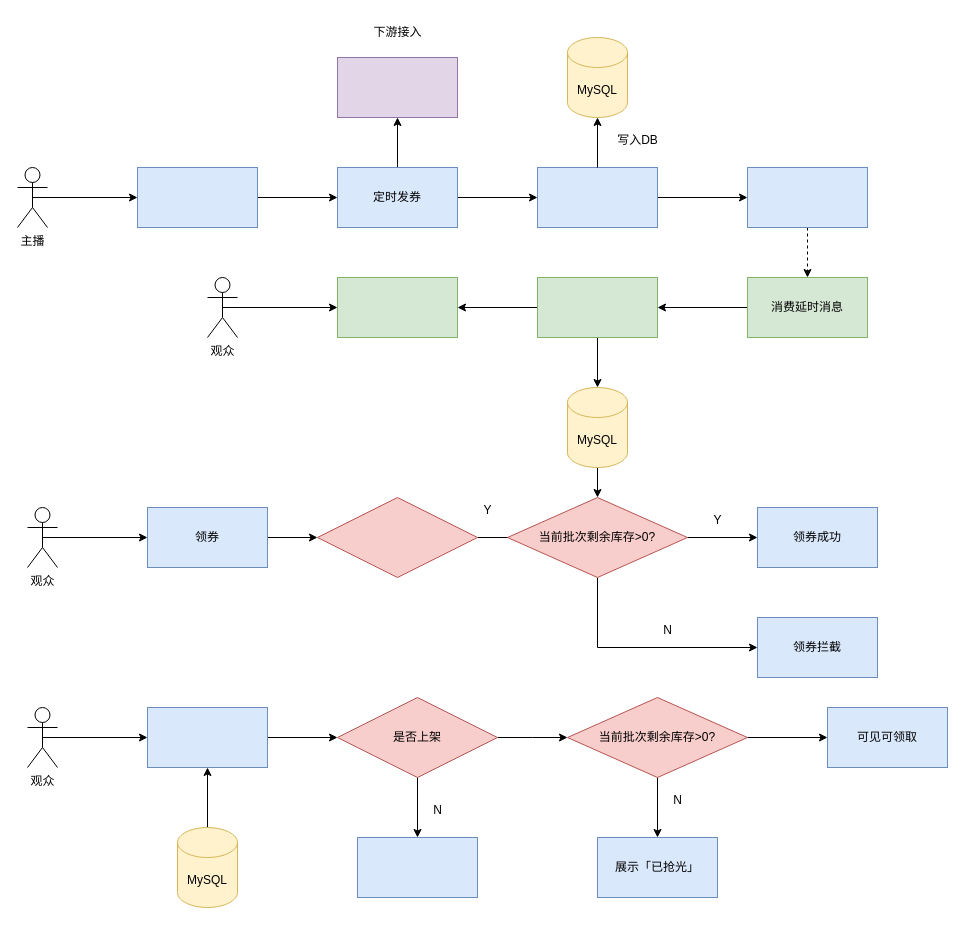
This 965x925 diagram has some shape labels left out. Here are the shapes that lost their labels. From the top down, the centre of each, then its label:
At (x=397, y=87): "SPI接入".
At (x=197, y=197): "主播中控台".
At (x=597, y=197): "设置批次信息".
At (x=807, y=197): "发送延时消息".
At (x=397, y=307): "C端可见可领".
At (x=597, y=307): "活动自动上架".
At (x=397, y=537): "分布式锁".
At (x=207, y=737): "查询列表".
At (x=417, y=867): "不展示".
